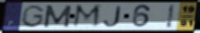6: (132, 4, 152, 29)
G: (19, 4, 46, 29)
I: (165, 4, 177, 30)
J: (102, 5, 123, 28)
M: (71, 4, 103, 29), (43, 4, 74, 28)
